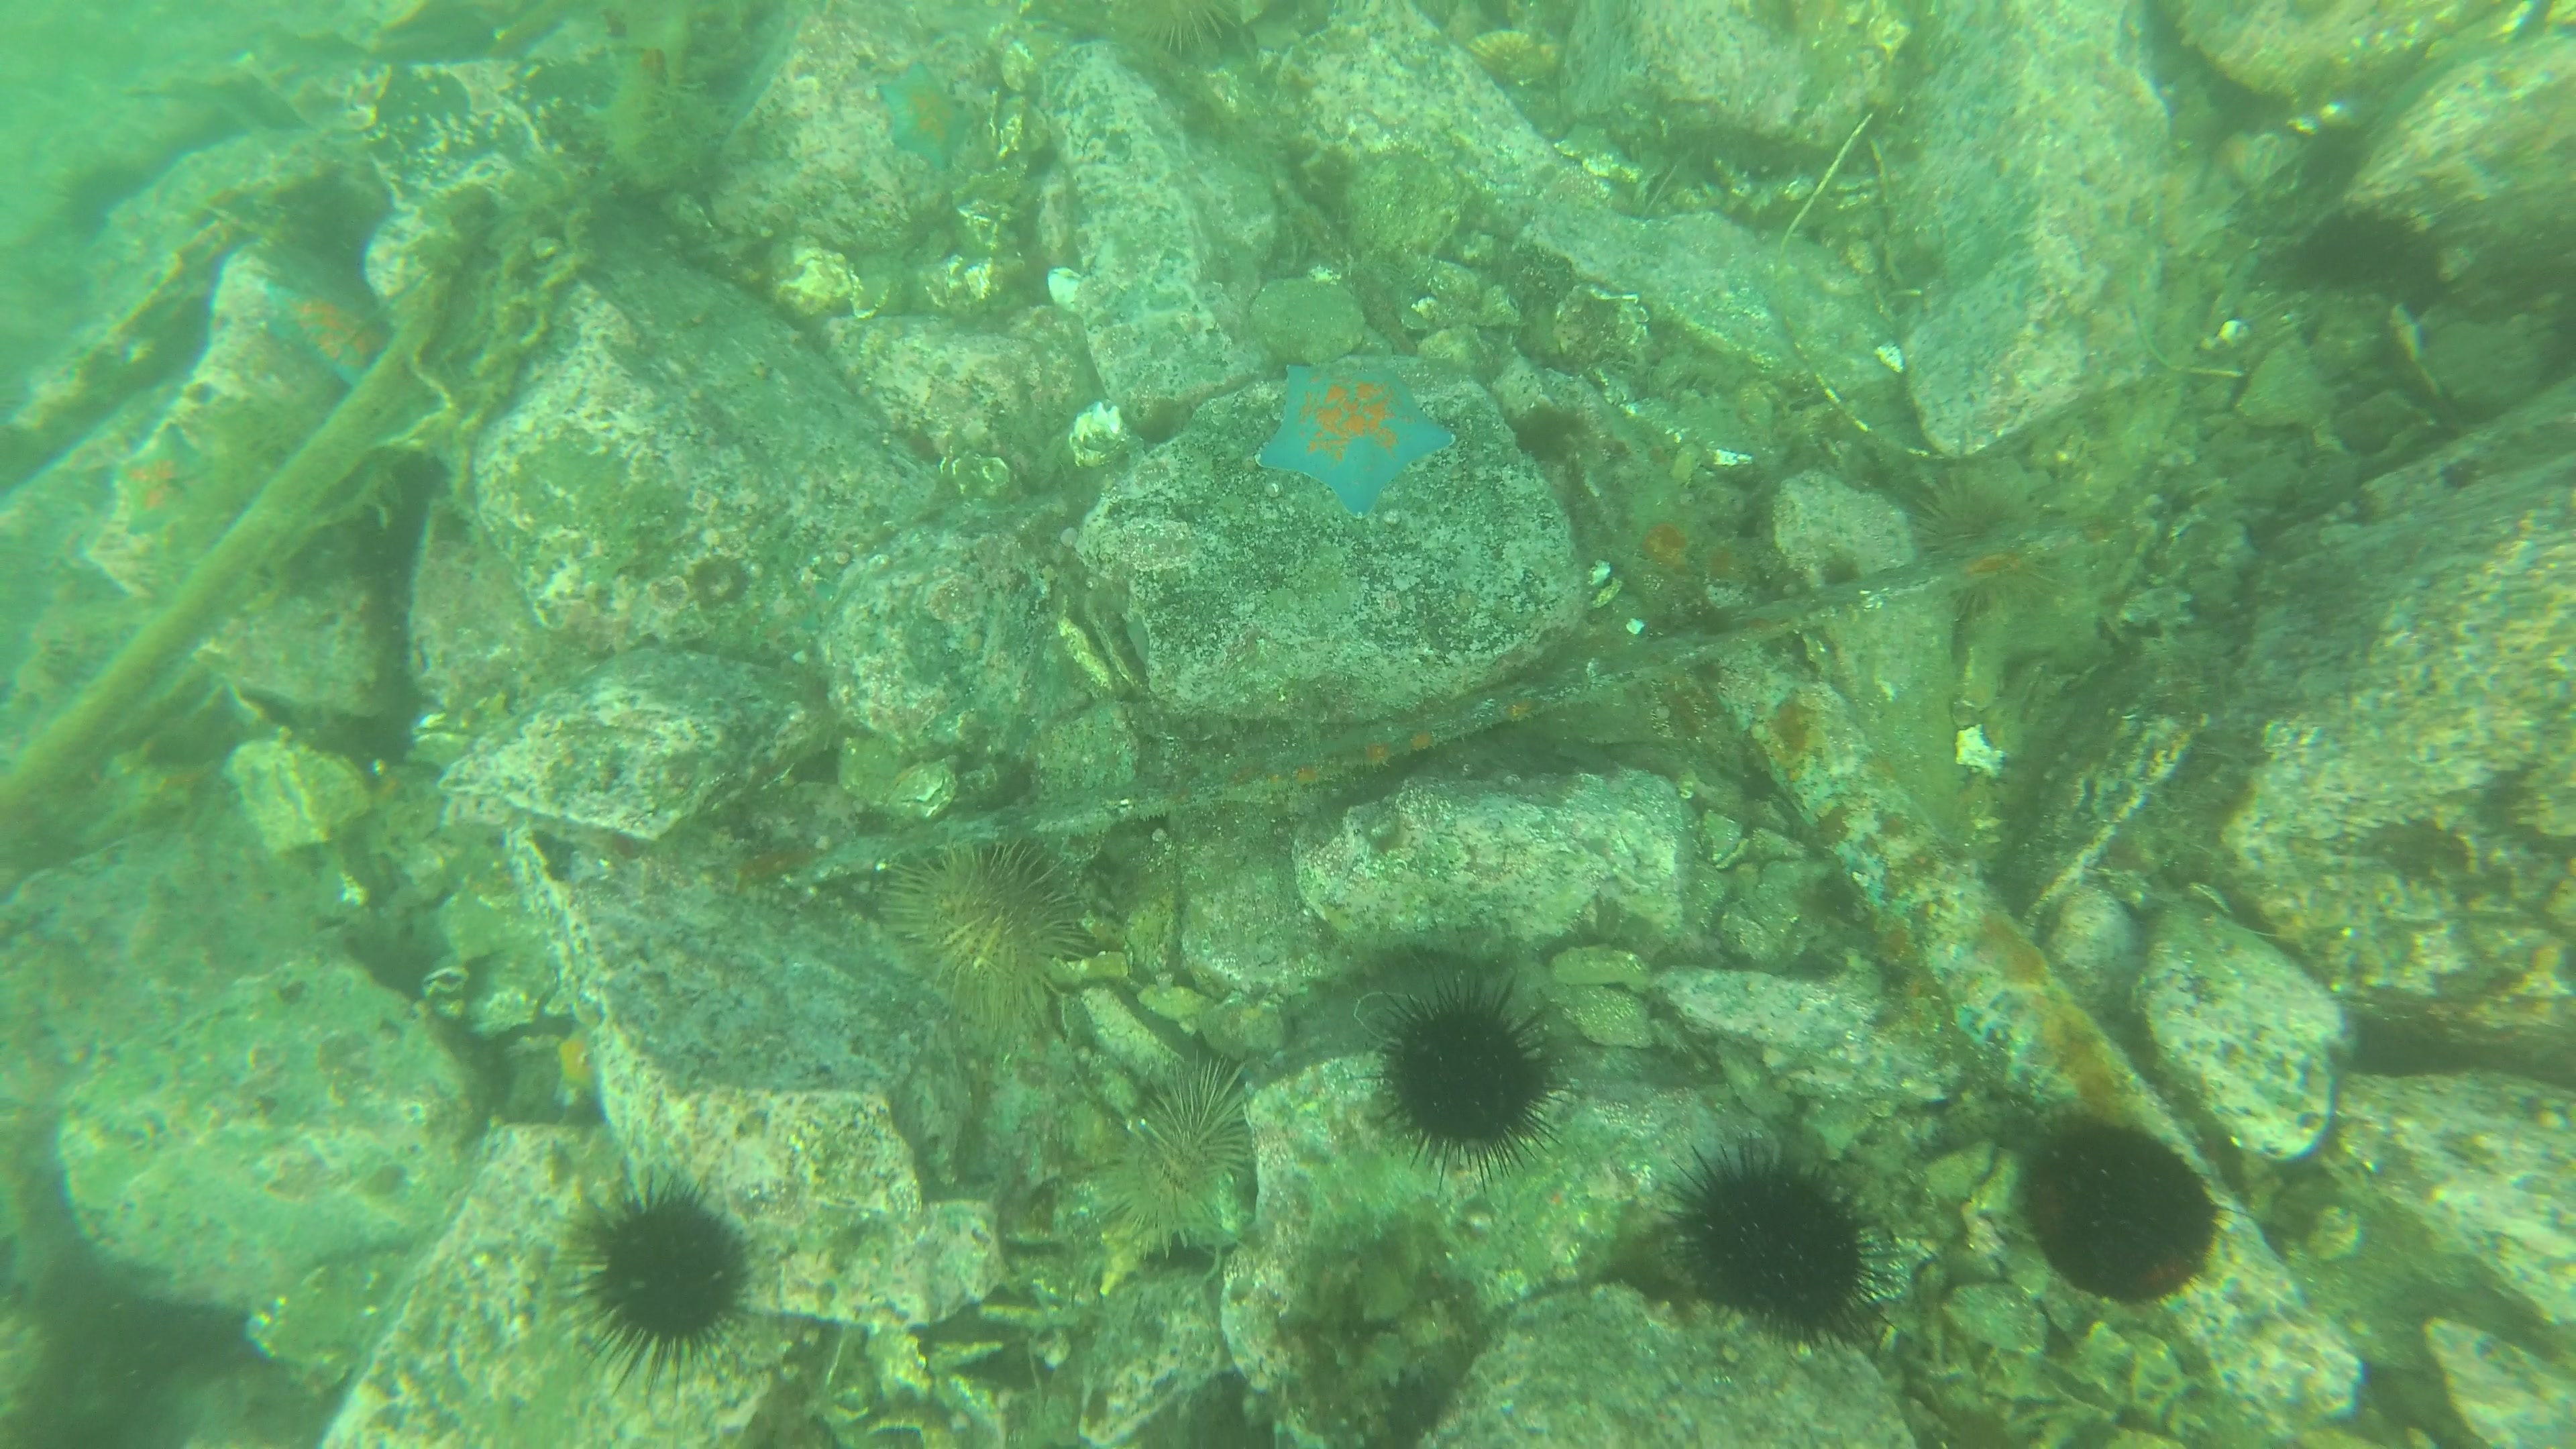echinus: (563, 1180, 759, 1371), (1675, 1150, 1877, 1334), (1375, 980, 1571, 1162), (2029, 1120, 2217, 1299), (901, 837, 1074, 1024), (1907, 474, 2056, 621), (1123, 1070, 1247, 1244), (1509, 400, 1591, 465)
starfish: (1258, 354, 1454, 518), (262, 271, 395, 387), (119, 414, 221, 541), (878, 62, 984, 172), (1619, 506, 1706, 582), (552, 1024, 607, 1113)
